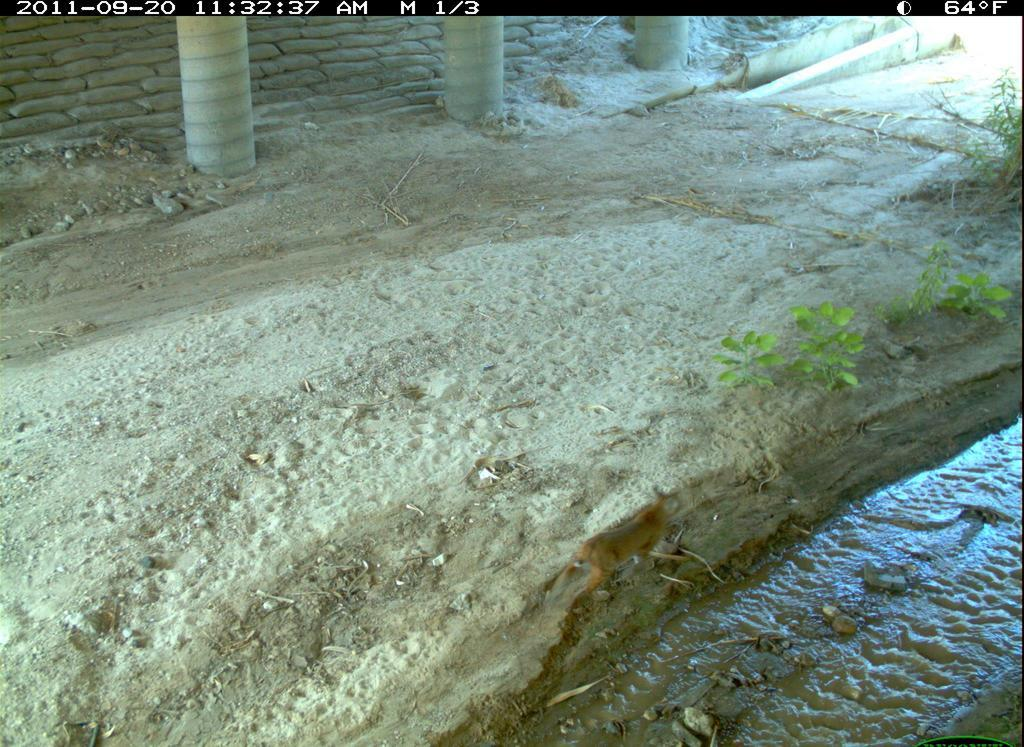bobcat: (559, 486, 690, 610)
